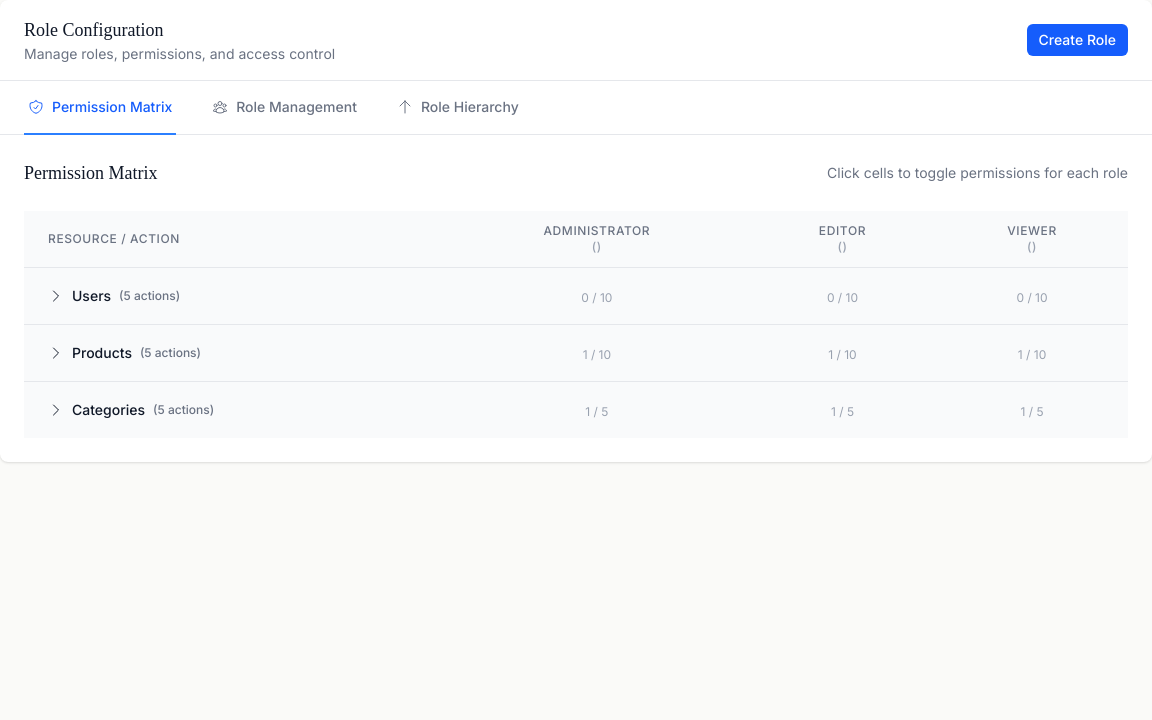
Test case: RoleConfigurationInterface › switches between tabs correctly
The width and height of the screenshot is (1152, 720).
Check: the text "Click cells to toggle permissions for each role" is shown, box [827,163,1128,183]
// Switch to Role Management tab
Click the button "Role Management" at {"x": 285, "y": 108}, box [208,81,361,135]
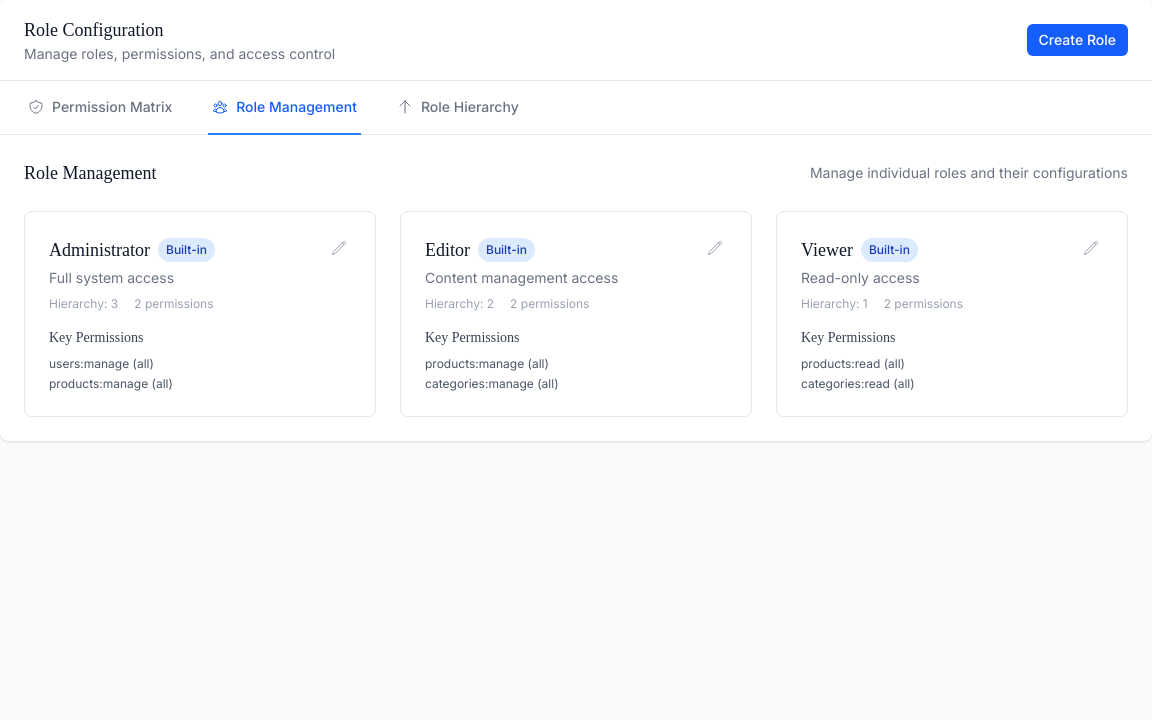
Check: the text "Manage individual roles and their configurations" is shown, box [810,163,1128,183]
// Switch to Role Hierarchy tab
Click the button "Role Hierarchy" at {"x": 458, "y": 108}, box [393,81,523,135]
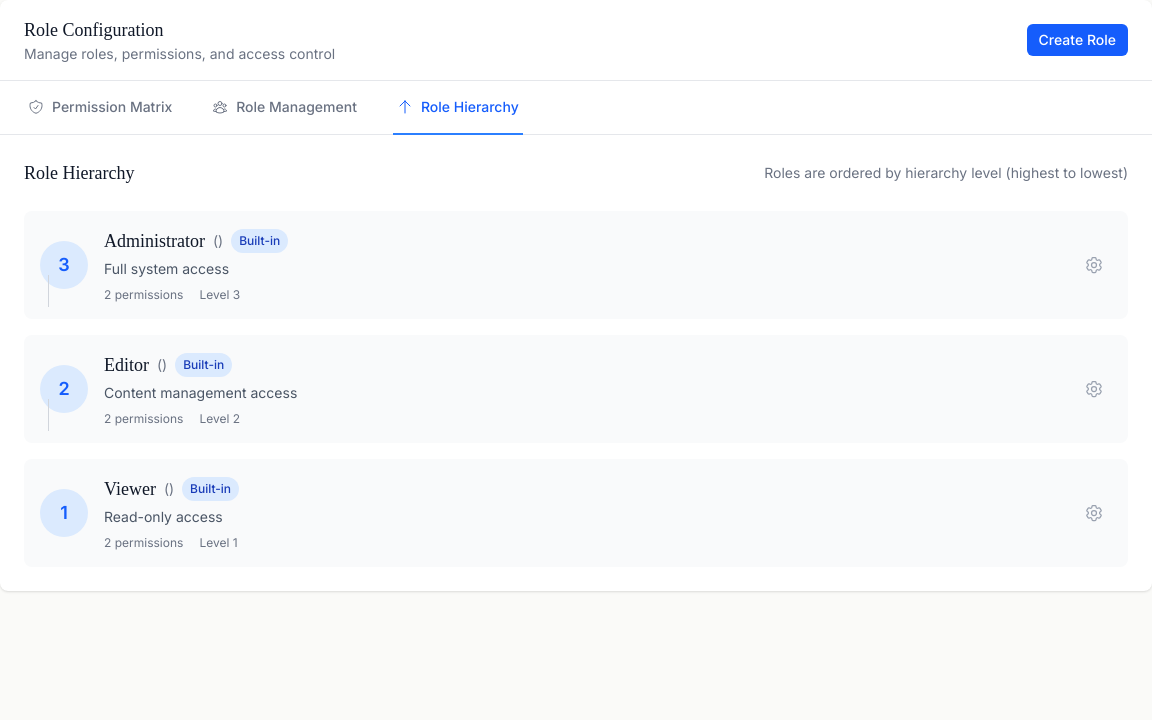
Check: the text "Roles are ordered by hierarchy level (highest to lowest)" is shown, box [764,163,1128,183]
